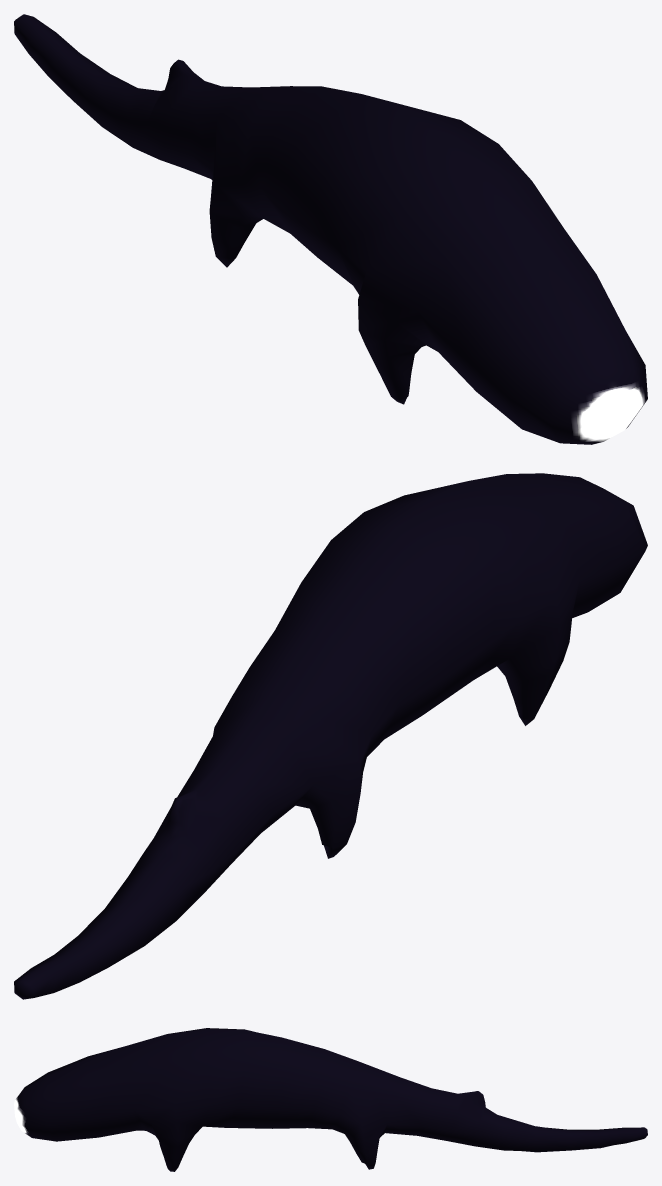
File: Game2-LIZARD-still.fbx
3 views of the same model, one above another, from view 1: azimuth 30°, elevation 25°; view 2: azimuth 150°, elevation 25°; view 3: azimuth 270°, elevation 25° (orthographic). The views are drawn at different scales.
Visible parts, largest first — view 1: lizard_geo; view 2: lizard_geo; view 3: lizard_geo.
Boxes of the visible parts, left/top/right/bottom form: lizard_geo: left=14, top=14, right=647, bottom=444; lizard_geo: left=14, top=473, right=647, bottom=999; lizard_geo: left=14, top=1028, right=647, bottom=1171.
Size of the model in its own units: 54.54 by 60.39 by 276.
